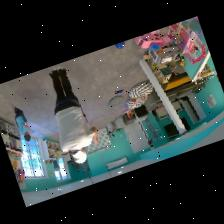person: (49, 66, 97, 162), (14, 106, 31, 140)
